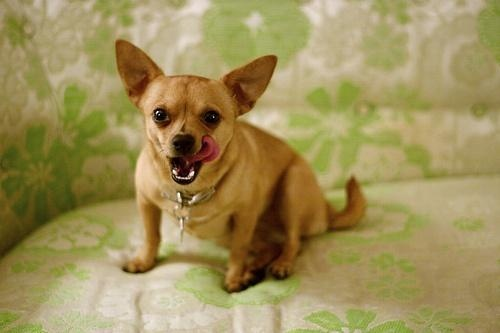dog: (113, 37, 365, 294)
